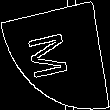M_E: (30, 27, 80, 83)
